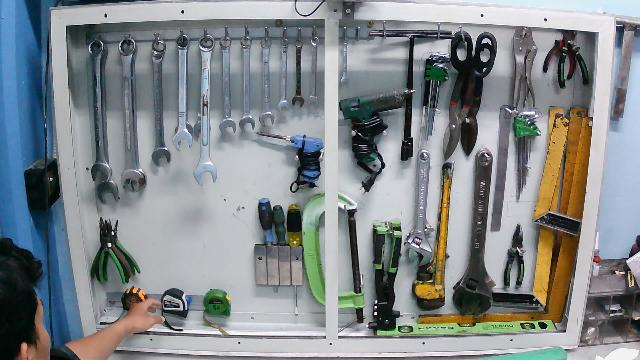meteran: (153, 283, 193, 334)
